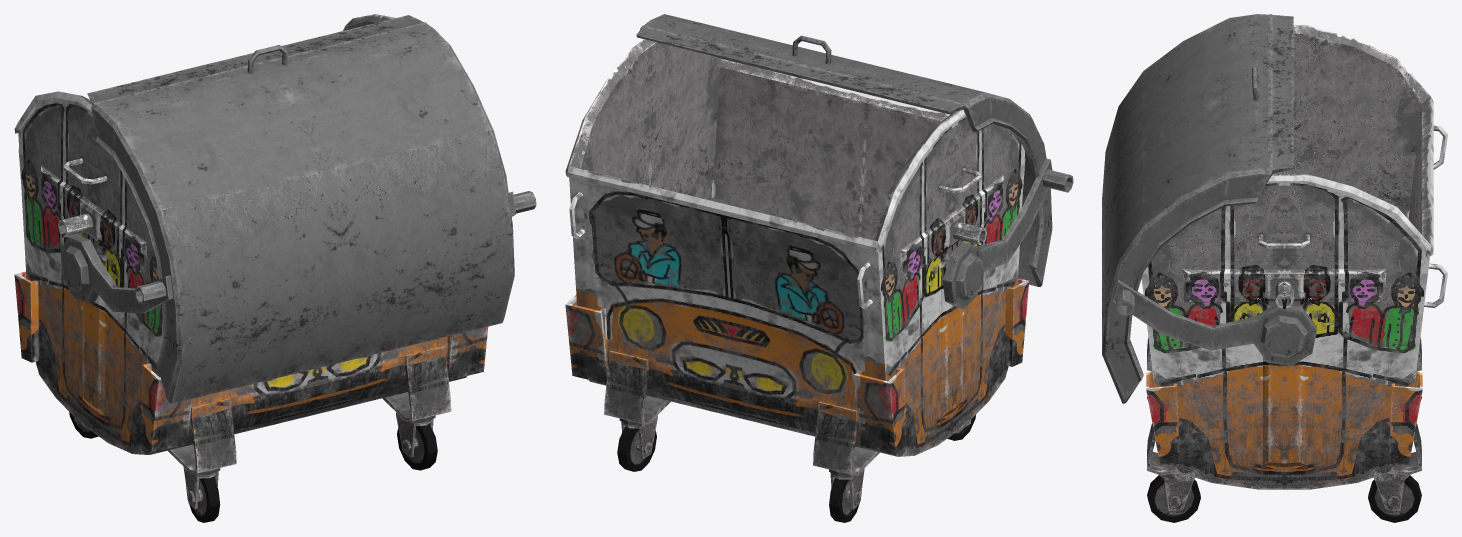
The model's file is garbage_container.obj.
3 renders of one model, left to right at view 1: azimuth 30°, elevation 25°; view 2: azimuth 150°, elevation 25°; view 3: azimuth 270°, elevation 25°, orthographic. The views are drawn at different scales.
Visible parts, largest first — view 1: Object_5, Object_4; view 2: Object_4, Object_5; view 3: Object_4, Object_5.
Part boxes in pixels (<box>): Object_5: <box>60,15,536,403</box>; Object_4: <box>14,14,488,522</box>; Object_4: <box>565,39,1029,522</box>; Object_5: <box>636,14,1073,308</box>; Object_4: <box>1141,25,1447,522</box>; Object_5: <box>1102,14,1316,403</box>.
Size of the model in its own units: 1.77 by 1.79 by 1.41.
2 materials, 2 textured.
